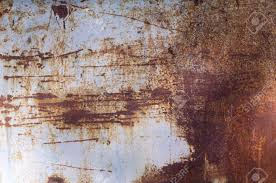rust: (178, 18, 274, 183), (39, 94, 152, 126), (52, 2, 70, 24)
